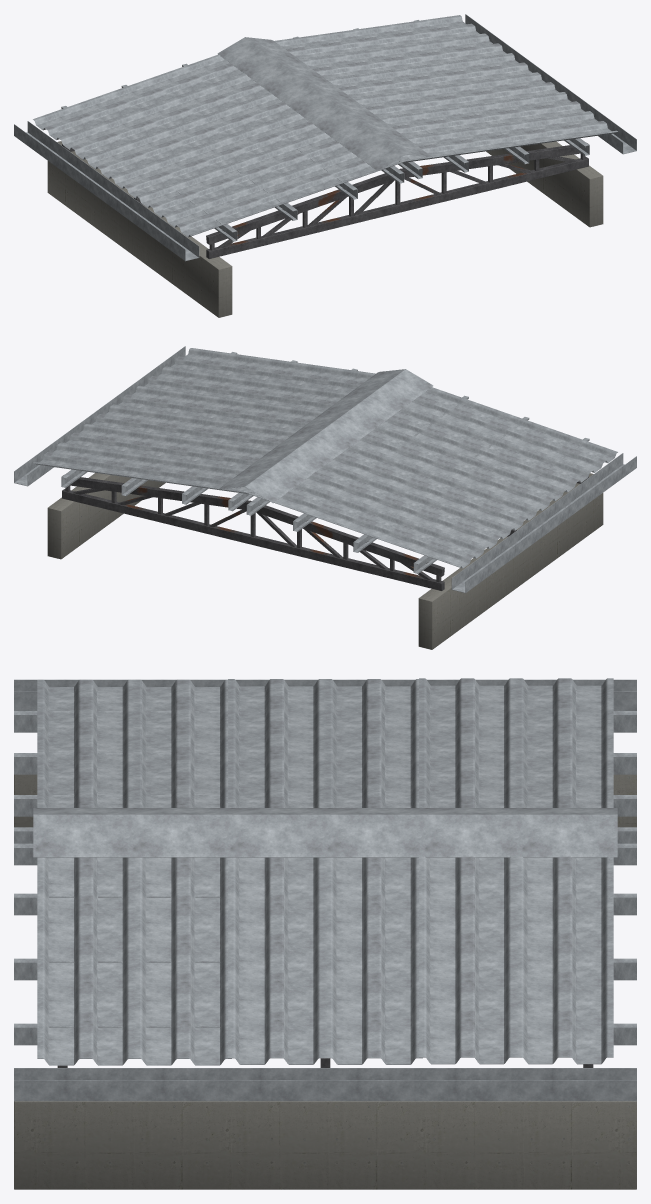
The model's file is KIT-COB-03.glb.
3 renders of one model, top to bottom at view 1: azimuth 30°, elevation 25°; view 2: azimuth 150°, elevation 25°; view 3: azimuth 270°, elevation 25°, orthographic. The views are drawn at different scales.
Parts seen in each view (by area): view 1: KIT-COB-03_p10, KIT-COB-03_p8, KIT-COB-03_p9, KIT-COB-03_p11, KIT-COB-03_p14, KIT-COB-03_p13, KIT-COB-03_p12, KIT-COB-03_apoio-1, KIT-COB-03_calha-1, KIT-COB-03_banzo_inf0, KIT-COB-03_apoio1, KIT-COB-03_calha1 (+2 smaller); view 2: KIT-COB-03_p10, KIT-COB-03_p9, KIT-COB-03_p8, KIT-COB-03_p13, KIT-COB-03_p14, KIT-COB-03_p12, KIT-COB-03_p11, KIT-COB-03_apoio-1, KIT-COB-03_calha-1, KIT-COB-03_banzo_inf2, KIT-COB-03_apoio1, KIT-COB-03_calha1 (+2 smaller); view 3: KIT-COB-03_apoio1, KIT-COB-03_p13, KIT-COB-03_p12, KIT-COB-03_p11, KIT-COB-03_p14, KIT-COB-03_p10, KIT-COB-03_p9, KIT-COB-03_p8, KIT-COB-03_calha1, KIT-COB-03_calha-1, KIT-COB-03_apoio-1, KIT-COB-03_p5 (+6 smaller).
Boxes of the visible parts, <box> form: KIT-COB-03_p10: <box>33,54,271,159</box>; KIT-COB-03_p8: <box>138,132,407,237</box>; KIT-COB-03_p9: <box>85,94,324,198</box>; KIT-COB-03_p11: <box>381,93,617,162</box>; KIT-COB-03_p14: <box>217,37,433,171</box>; KIT-COB-03_p13: <box>274,15,512,80</box>; KIT-COB-03_p12: <box>328,54,565,118</box>; KIT-COB-03_apoio-1: <box>47,141,232,317</box>; KIT-COB-03_calha-1: <box>14,121,199,261</box>; KIT-COB-03_banzo_inf0: <box>206,157,588,258</box>; KIT-COB-03_apoio1: <box>486,141,603,227</box>; KIT-COB-03_calha1: <box>465,14,636,154</box>; KIT-COB-03_p10: <box>243,463,512,568</box>; KIT-COB-03_p9: <box>328,425,565,530</box>; KIT-COB-03_p8: <box>380,387,617,492</box>; KIT-COB-03_p13: <box>33,424,271,494</box>; KIT-COB-03_p14: <box>217,369,433,503</box>; KIT-COB-03_p12: <box>88,386,323,449</box>; KIT-COB-03_p11: <box>141,348,375,411</box>; KIT-COB-03_apoio-1: <box>418,473,603,649</box>; KIT-COB-03_calha-1: <box>451,453,636,593</box>; KIT-COB-03_banzo_inf2: <box>62,489,444,590</box>; KIT-COB-03_apoio1: <box>47,473,165,559</box>; KIT-COB-03_calha1: <box>14,346,185,486</box>; KIT-COB-03_apoio1: <box>14,1101,636,1189</box>; KIT-COB-03_p13: <box>419,856,613,1064</box>; KIT-COB-03_p12: <box>228,857,422,1064</box>; KIT-COB-03_p11: <box>37,857,231,1065</box>; KIT-COB-03_p14: <box>33,808,617,857</box>; KIT-COB-03_p10: <box>419,678,613,807</box>; KIT-COB-03_p9: <box>228,679,418,807</box>; KIT-COB-03_p8: <box>37,679,227,807</box>; KIT-COB-03_calha1: <box>14,1068,636,1101</box>; KIT-COB-03_calha-1: <box>14,679,636,710</box>; KIT-COB-03_apoio-1: <box>14,774,636,827</box>; KIT-COB-03_p5: <box>14,893,636,915</box>.
Size of the model in its own units: 4.87 by 1.16 by 3.2.
Materials: 3 (3 with a texture image).
